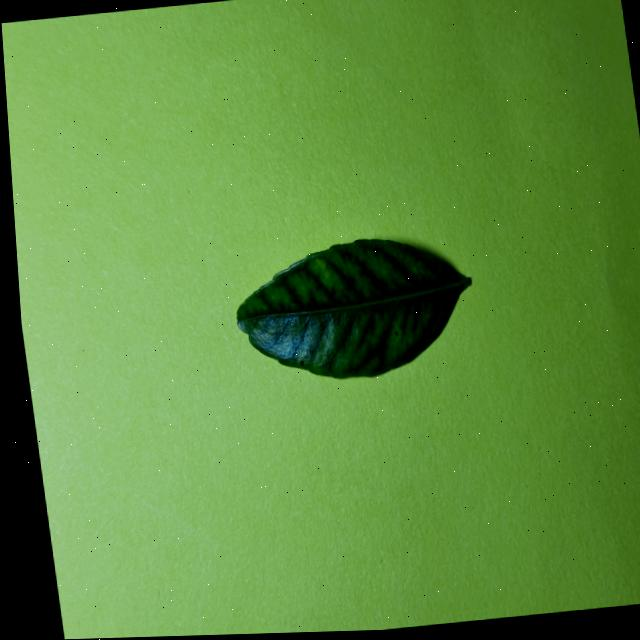greening: (237, 238, 471, 376)
